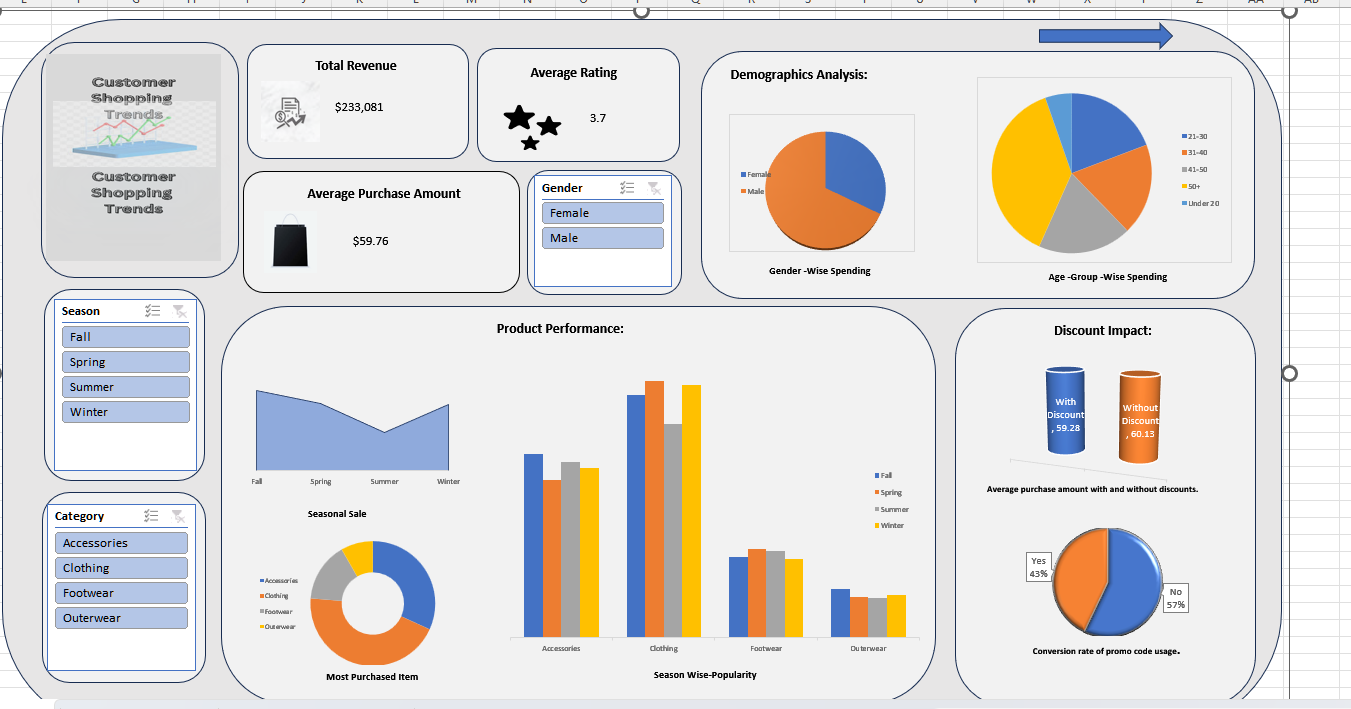

The page's visual inventory and layout, read from the dashboard file:
{"tool":"powerbi","page":{"name":"Page 1","canvas":[1280,720],"ordinal":0},"visuals":[{"type":"shape","box":[667.1,0,610.4,359.5],"z":0,"group":"g6"},{"type":"shape","box":[13,11.3,634.4,304.4],"z":0,"group":"g4"},{"type":"textbox","box":[978,14.6,170,13],"z":0},{"type":"shape","box":[35.6,331.9,459.9,387],"z":0,"group":"g3"},{"type":"shape","box":[511.7,375.7,765.9,331.9],"z":0,"group":"g1"},{"type":"textbox","box":[38.9,29.1,628.3,47],"z":1000,"group":"g4"},{"type":"donutChart","fields":{"Category":["Gender-Wise-Spending.Gender"],"Y":["Sum(Gender-Wise-Spending.Total-Spend)"]},"box":[703.9,34,224.1,145.7],"z":1000,"group":"g6"},{"type":"pieChart","fields":{"Category":["shopping_trends.Discount Spend"],"Y":["CountNonNull(shopping_trends.Customer ID)"]},"box":[49.6,357,230.7,162.9],"z":1000,"group":"g3"},{"type":"group","id":"g1","title":"Group 3","box":[511.7,375.7,765.9,333.6],"z":1000},{"type":"group","id":"g2","title":"Group 2","box":[667.1,0,610.4,359.5],"z":2000},{"type":"card","title":"TOTAL REVENUE","fields":{"Values":["shopping_trends.Total Revenue"]},"box":[254.3,89,174.9,64.8],"z":2000,"group":"g4"},{"type":"textbox","box":[722.6,153.8,175.2,25.9],"z":2000,"group":"g6"},{"type":"donutChart","fields":{"Category":["shopping_trends.Promo Code Used"],"Y":["CountNonNull(shopping_trends.Customer ID)"]},"box":[63.7,526.2,238.5,181.7],"z":2000,"group":"g3"},{"type":"card","title":"Avrg Purchase Amount","fields":{"Values":["shopping_trends.Avrg purchase amount"]},"box":[247.8,157,285,77.7],"z":3000,"group":"g4"},{"type":"textbox","box":[973.6,319,257.1,29.1],"z":3000,"group":"g6"},{"type":"group","id":"g3","title":"Group 4","box":[35.6,331.9,459.9,387],"z":3000},{"type":"pieChart","fields":{"Category":["Most-purchased.Category"],"Y":["Sum(Most-purchased.Total-Purchase)"]},"box":[938.3,423.3,310.2,218.8],"z":3000,"group":"g1"},{"type":"card","title":"Average Purchase Value Without Discount ","fields":{"Values":["shopping_trends.avg-without-dscnt"]},"box":[283.5,476,212,70.5],"z":3000,"group":"g3"},{"type":"group","id":"g4","title":"Group 5","box":[13,11.3,654.2,304.4],"z":4000},{"type":"image","box":[140.9,84.2,113.3,69.6],"z":4000,"group":"g4"},{"type":"columnChart","fields":{"Category":["Age-Group-Wise.Age Group"],"Y":["Sum(Age-Group-Wise.Total-Spend)"]},"box":[708.8,179.7,234.1,151.8],"z":4000,"group":"g6"},{"type":"stackedAreaChart","fields":{"Category":["Season-wise-popularity.Season"],"Y":["Sum(Season-wise-popularity.Total_Spend)"]},"box":[547.2,404,360.3,120.6],"z":4000,"group":"g1"},{"type":"cardVisual","title":"Average Purchase Value With Discount","fields":{"Data":["shopping_trends.Avg-with-discnt"]},"box":[289.7,576.3,188.6,103.4],"z":4000,"group":"g3"},{"type":"shape","box":[477.7,327.1,208.9,38.9],"z":4001,"group":"g5"},{"type":"shape","box":[615.3,328.7,59.9,38.9],"z":4002,"group":"g5"},{"type":"group","id":"g5","title":"Group 6","box":[477.7,327.1,208.9,40.5],"z":4003},{"type":"filledMap","fields":{"Category":["Top-5-location.Location"],"Series":["Top-5-location.Total-Spend"]},"box":[958.7,91.9,288.7,227.7],"z":5000,"group":"g6"},{"type":"image","box":[468,195.9,127.9,84.2],"z":5000,"group":"g4"},{"type":"textbox","box":[925.6,318.4,261.4,27.5],"z":5000,"group":"g2"},{"type":"textbox","box":[63.7,512.1,202.7,25.1],"z":5000,"group":"g3"},{"type":"pivotTable","fields":{"Rows":["shopping_trends.Category"],"Columns":["shopping_trends.Season"],"Values":["CountNonNull(shopping_trends.Customer ID)"]},"box":[553.7,532,371.6,147.4],"z":5000,"group":"g1"},{"type":"textbox","box":[838.3,11.9,341.9,35.9],"z":6000,"group":"g6"},{"type":"slicer","fields":{"Values":["shopping_trends.Category"]},"box":[273.7,252.6,166.8,55.1],"z":6000,"group":"g4"},{"type":"textbox","box":[628,387.6,463.7,31.3],"z":6000,"group":"g1"},{"type":"textbox","box":[99.5,678.2,207.3,29.8],"z":6000,"group":"g3"},{"type":"slicer","fields":{"Values":["shopping_trends.Season"]},"box":[87.5,252.6,166.8,55.1],"z":7000,"group":"g4"},{"type":"textbox","box":[756.2,320.6,186.7,27.5],"z":7000,"group":"g6"},{"type":"textbox","box":[228.9,358.5,212,37.6],"z":7000,"group":"g3"},{"type":"textbox","box":[595.7,661.5,265,32.7],"z":7000,"group":"g1"},{"type":"textbox","box":[595.7,506.7,265,35.7],"z":8000,"group":"g1"},{"type":"textbox","box":[965.7,637.7,253.7,41.7],"z":9000,"group":"g1"},{"type":"group","id":"g6","title":"Group 1","box":[667.1,0,610.4,359.5],"z":9003,"group":"g2"}]}

Visuals, with their boxes on the page's 1280x720 design canvas (x1, y1, x2, y2). These are canvas units, not pixel positions in the 1351x709 screenshot, which may show the page scaled, cropped or inside an application window:
shape: Rect(667, 0, 1278, 360)
shape: Rect(13, 11, 647, 316)
textbox: Rect(978, 15, 1148, 28)
shape: Rect(36, 332, 496, 719)
shape: Rect(512, 376, 1278, 708)
textbox: Rect(39, 29, 667, 76)
donutChart - Gender-Wise-Spending.Gender x Sum(Gender-Wise-Spending.Total-Spend): Rect(704, 34, 928, 180)
pieChart - shopping_trends.Discount Spend x CountNonNull(shopping_trends.Customer ID): Rect(50, 357, 280, 520)
"Group 3" group: Rect(512, 376, 1278, 709)
"Group 2" group: Rect(667, 0, 1278, 360)
"TOTAL REVENUE" card: Rect(254, 89, 429, 154)
textbox: Rect(723, 154, 898, 180)
donutChart - shopping_trends.Promo Code Used x CountNonNull(shopping_trends.Customer ID): Rect(64, 526, 302, 708)
"Avrg Purchase Amount" card: Rect(248, 157, 533, 235)
textbox: Rect(974, 319, 1231, 348)
"Group 4" group: Rect(36, 332, 496, 719)
pieChart - Most-purchased.Category x Sum(Most-purchased.Total-Purchase): Rect(938, 423, 1248, 642)
"Average Purchase Value Without Discount " card: Rect(284, 476, 496, 546)
"Group 5" group: Rect(13, 11, 667, 316)
image: Rect(141, 84, 254, 154)
columnChart - Age-Group-Wise.Age Group x Sum(Age-Group-Wise.Total-Spend): Rect(709, 180, 943, 332)
stackedAreaChart - Season-wise-popularity.Season x Sum(Season-wise-popularity.Total_Spend): Rect(547, 404, 908, 525)
"Average Purchase Value With Discount" cardVisual: Rect(290, 576, 478, 680)
shape: Rect(478, 327, 687, 366)
shape: Rect(615, 329, 675, 368)
"Group 6" group: Rect(478, 327, 687, 368)
filledMap - Top-5-location.Location x Top-5-location.Total-Spend: Rect(959, 92, 1247, 320)
image: Rect(468, 196, 596, 280)
textbox: Rect(926, 318, 1187, 346)
textbox: Rect(64, 512, 266, 537)
pivotTable - shopping_trends.Category x shopping_trends.Season: Rect(554, 532, 925, 679)
textbox: Rect(838, 12, 1180, 48)
slicer - shopping_trends.Category: Rect(274, 253, 440, 308)
textbox: Rect(628, 388, 1092, 419)
textbox: Rect(100, 678, 307, 708)
slicer - shopping_trends.Season: Rect(88, 253, 254, 308)
textbox: Rect(756, 321, 943, 348)
textbox: Rect(229, 358, 441, 396)
textbox: Rect(596, 662, 861, 694)
textbox: Rect(596, 507, 861, 542)
textbox: Rect(966, 638, 1219, 679)
"Group 1" group: Rect(667, 0, 1278, 360)
